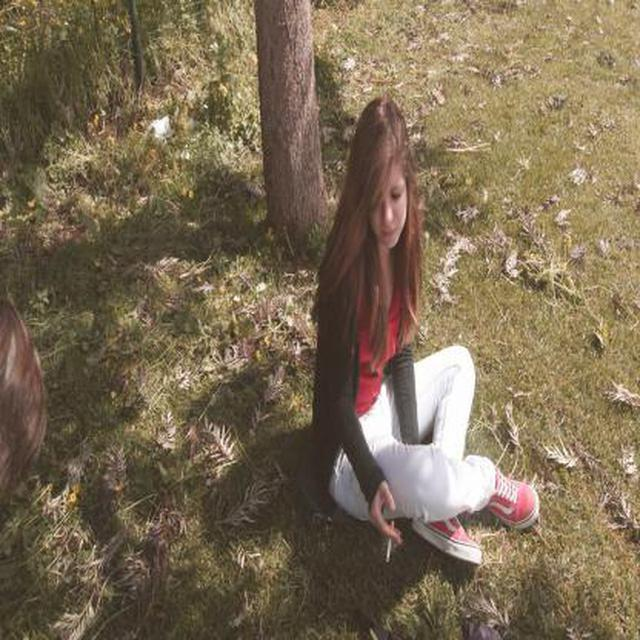smoking: (386, 520, 394, 562)
